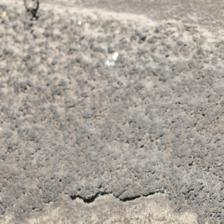Crack: (25, 88, 151, 128)
